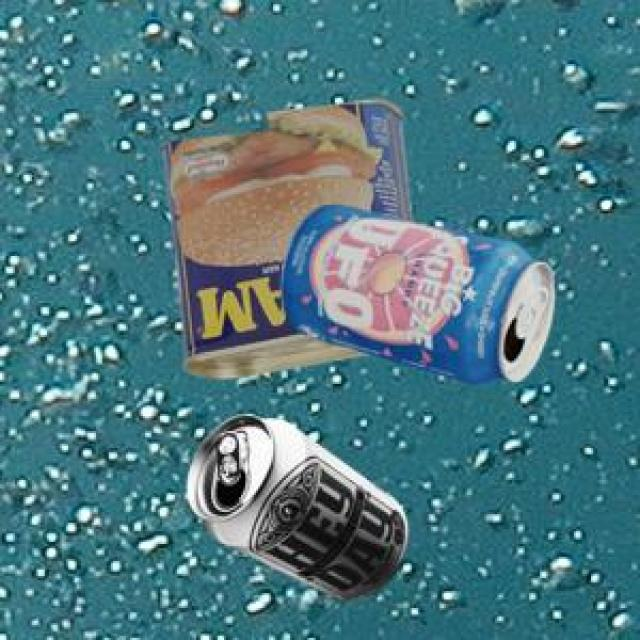logam: (159, 97, 409, 374), (278, 204, 551, 381), (185, 413, 404, 596)
